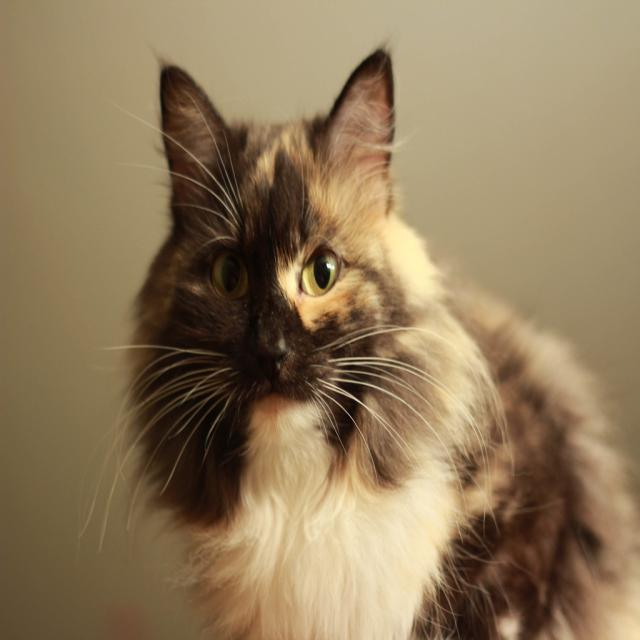Cat: (78, 31, 640, 639)
